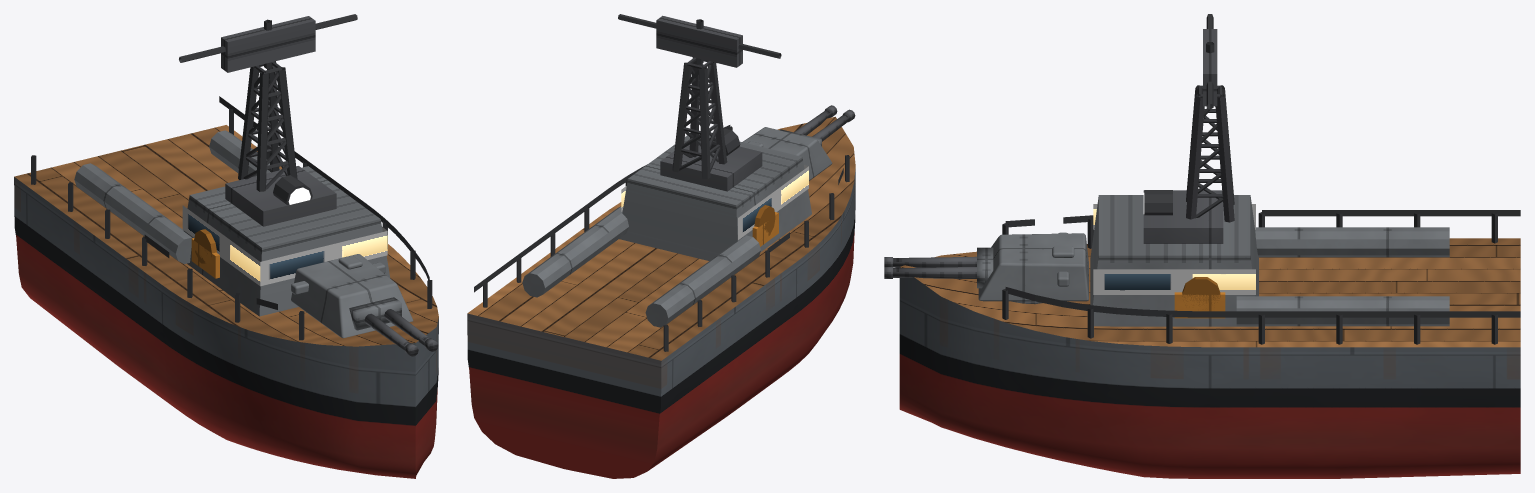
File: patrol.gltf
The picture shows the model from 3 angles, left to right: view 1: azimuth 30°, elevation 25°; view 2: azimuth 150°, elevation 25°; view 3: azimuth 270°, elevation 25°; orthographic projection. The views are drawn at different scales.
Parts seen in each view (by area): view 1: patrol_hull, TURRET_A, GUN_A; view 2: patrol_hull, TURRET_A, GUN_A; view 3: patrol_hull, TURRET_A, GUN_A.
Part boxes in pixels (x1,y1,x2,y2): patrol_hull: (14,14,438,478); TURRET_A: (291,254,413,338); GUN_A: (349,297,438,356); patrol_hull: (467,14,855,478); TURRET_A: (742,127,832,180); GUN_A: (780,105,855,146); patrol_hull: (899,14,1520,478); TURRET_A: (978,232,1088,304); GUN_A: (884,247,993,288).
Bounding box in the file's own units: 1.45 × 2.53 × 3.59.
7 materials, 6 textured.
